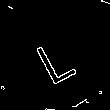L_NW: (29, 26, 81, 84)
